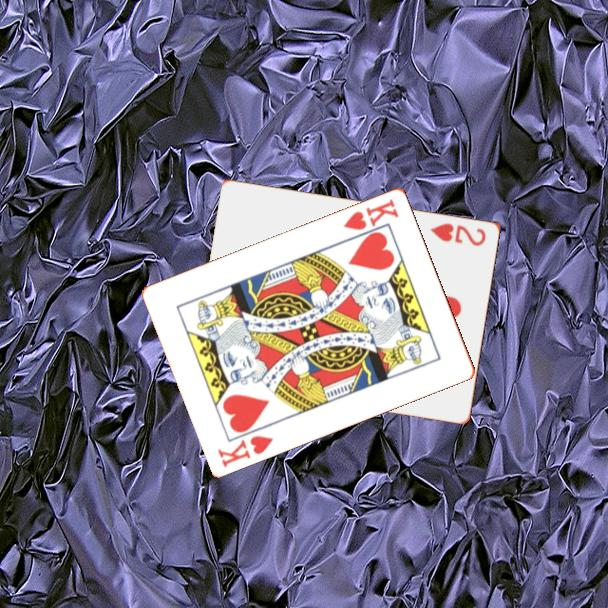h02: (427, 219, 489, 249)
h13: (214, 431, 276, 470), (340, 195, 402, 233)
